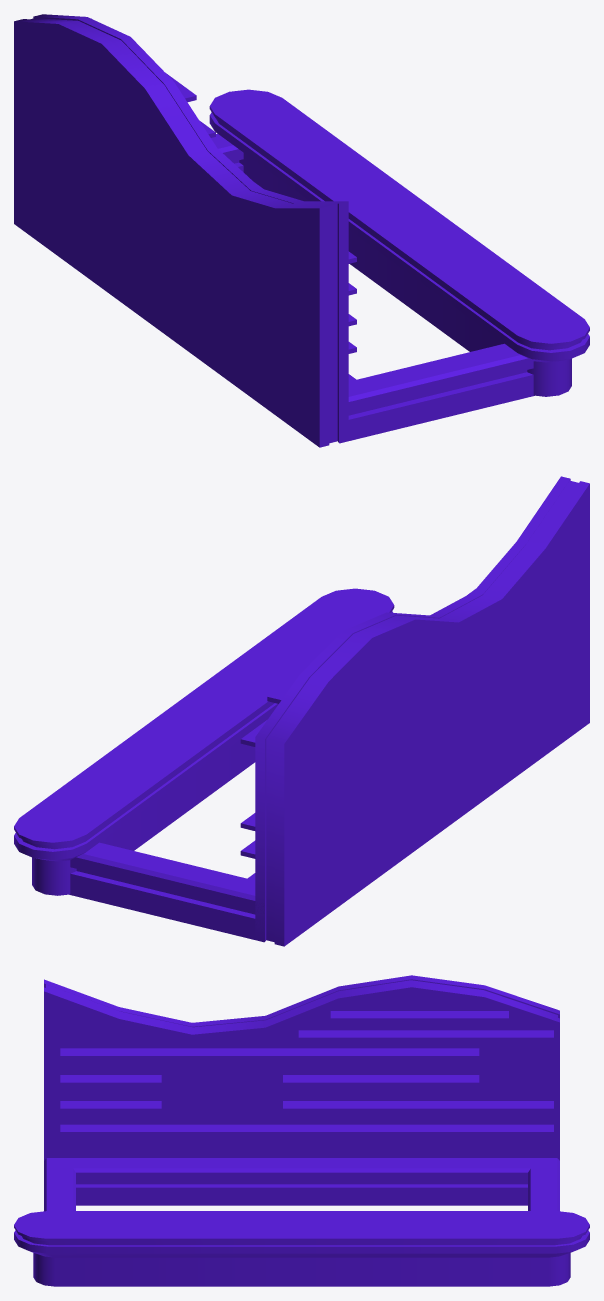
The model's file is Bar_mesh.fbx.
The picture shows the model from 3 angles, top to bottom: view 1: azimuth 30°, elevation 25°; view 2: azimuth 150°, elevation 25°; view 3: azimuth 270°, elevation 25°; orthographic projection. The views are drawn at different scales.
Visible parts, largest first — view 1: Bar; view 2: Bar; view 3: Bar.
Boxes of the visible parts, x1,y1,x2,y2 form: Bar: [14, 14, 589, 447]; Bar: [14, 476, 589, 946]; Bar: [14, 975, 589, 1286].
Bounding box in the file's own units: 793 × 696 × 1757.
